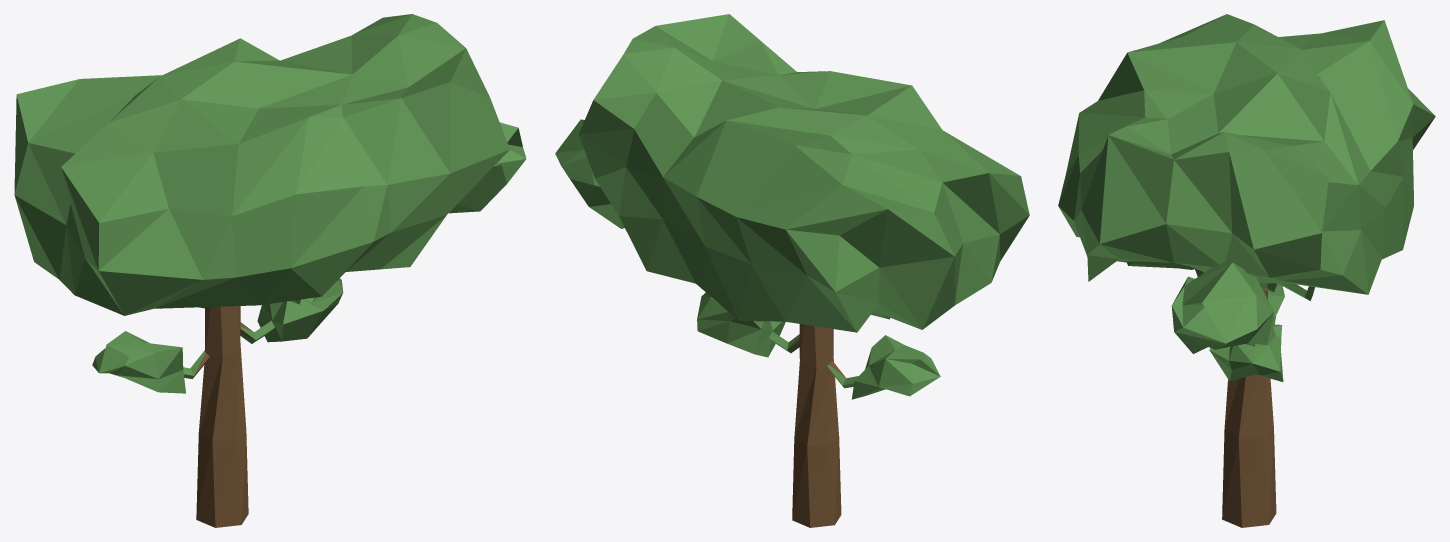
The model's file is tree3d-053.glb.
3 renders of one model, left to right at view 1: azimuth 30°, elevation 25°; view 2: azimuth 150°, elevation 25°; view 3: azimuth 270°, elevation 25°, orthographic. The views are drawn at different scales.
Visible parts, largest first — view 1: tree3d-053; view 2: tree3d-053; view 3: tree3d-053.
Boxes of the visible parts, x1,y1,x2,y2 form: tree3d-053: [14, 14, 526, 527]; tree3d-053: [555, 14, 1029, 527]; tree3d-053: [1058, 14, 1435, 527].
Bounding box in the file's own units: 1.08 × 1 × 0.7307.
